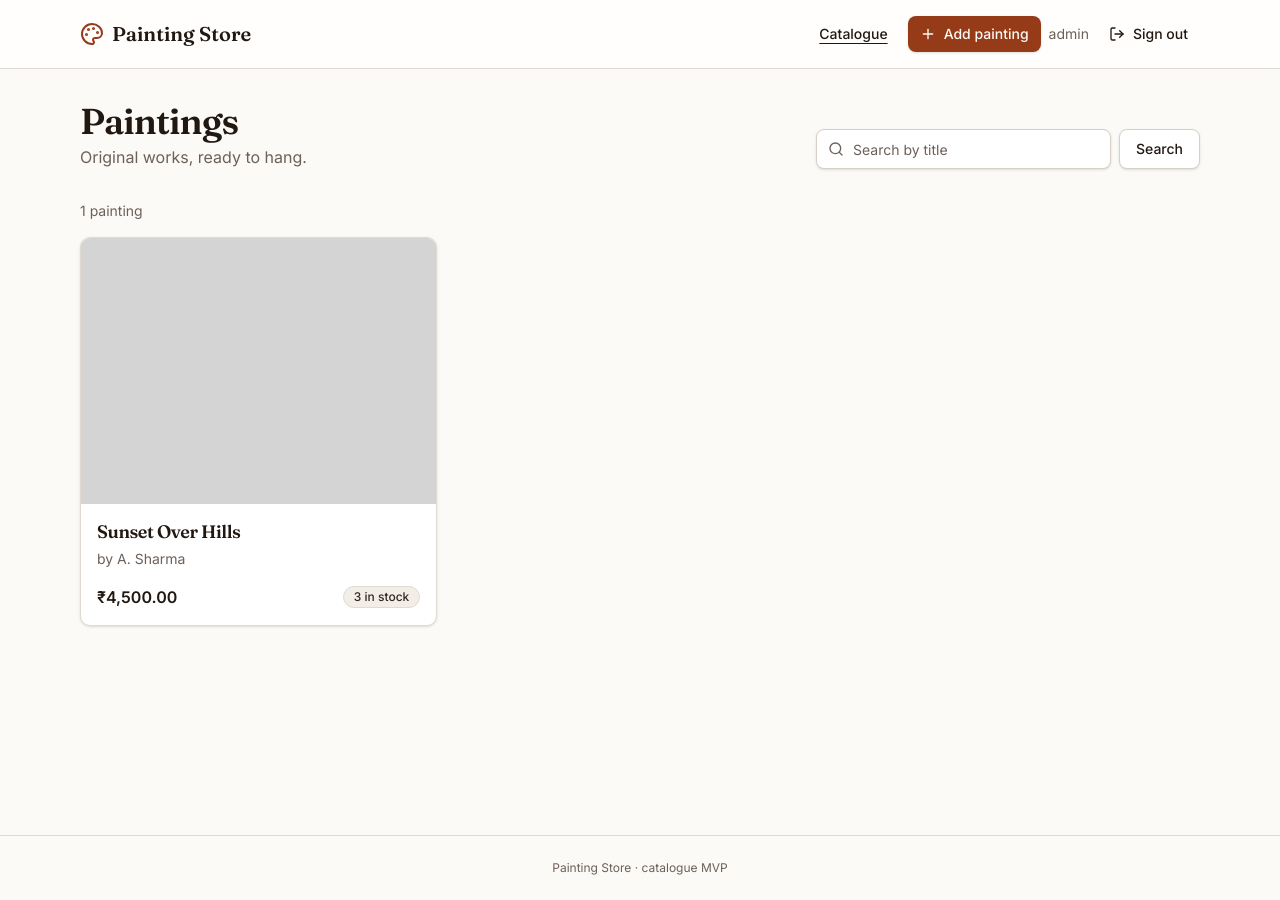
Test case: PaintingListPage › searches by title using the backend query param and reflects it in the URL
Expected: the link "Sunset Over Hills" is shown, [97,520,240,544]
Step 1. Type "moon" into the search field named "search paintings" → point(964, 149), box [816,129,1111,169]
Then press Enter
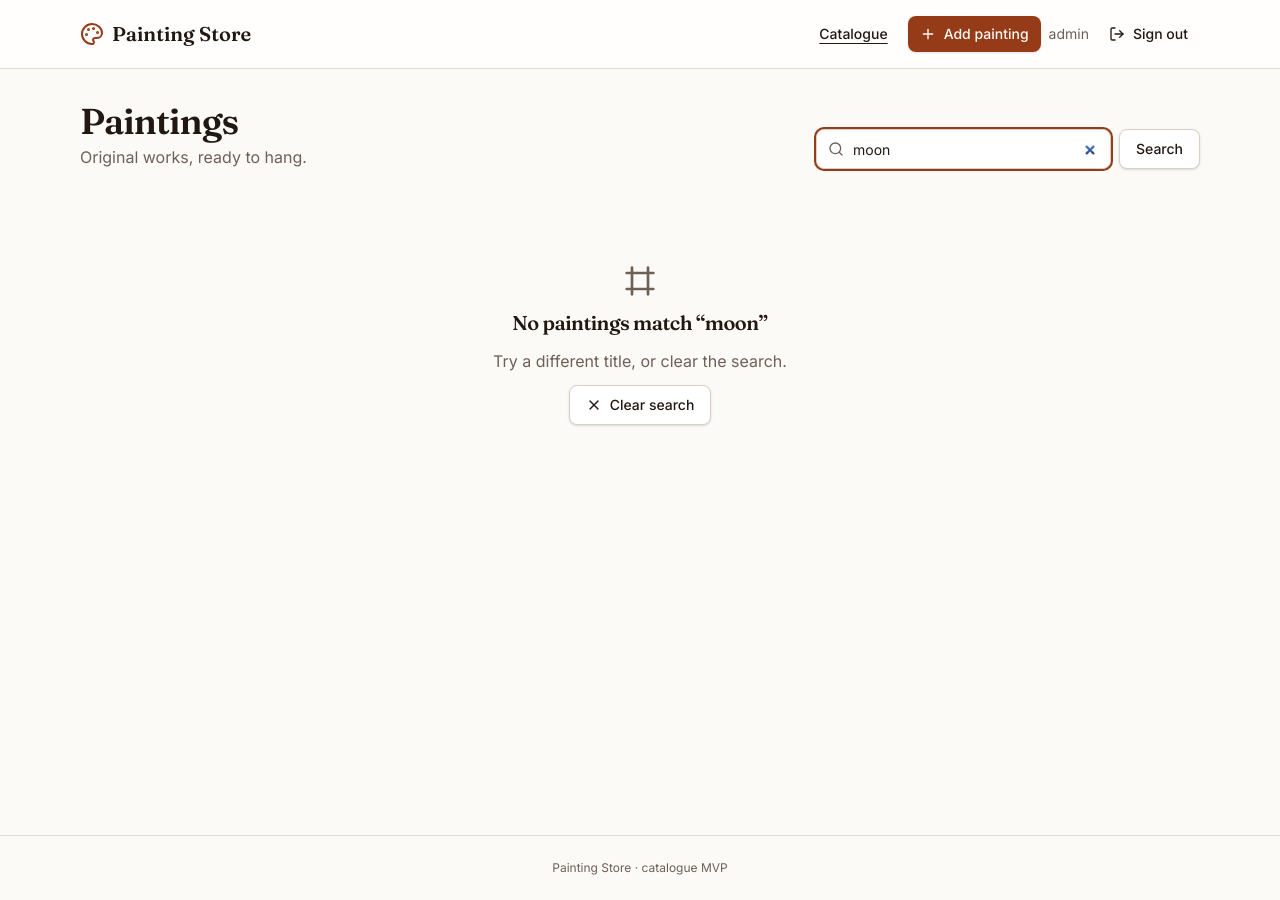
Expected: the heading "No paintings match “moon”" is shown, [512,309,768,337]
Step 2. Click the button "Clear search" → point(640, 405), box [569,385,711,425]
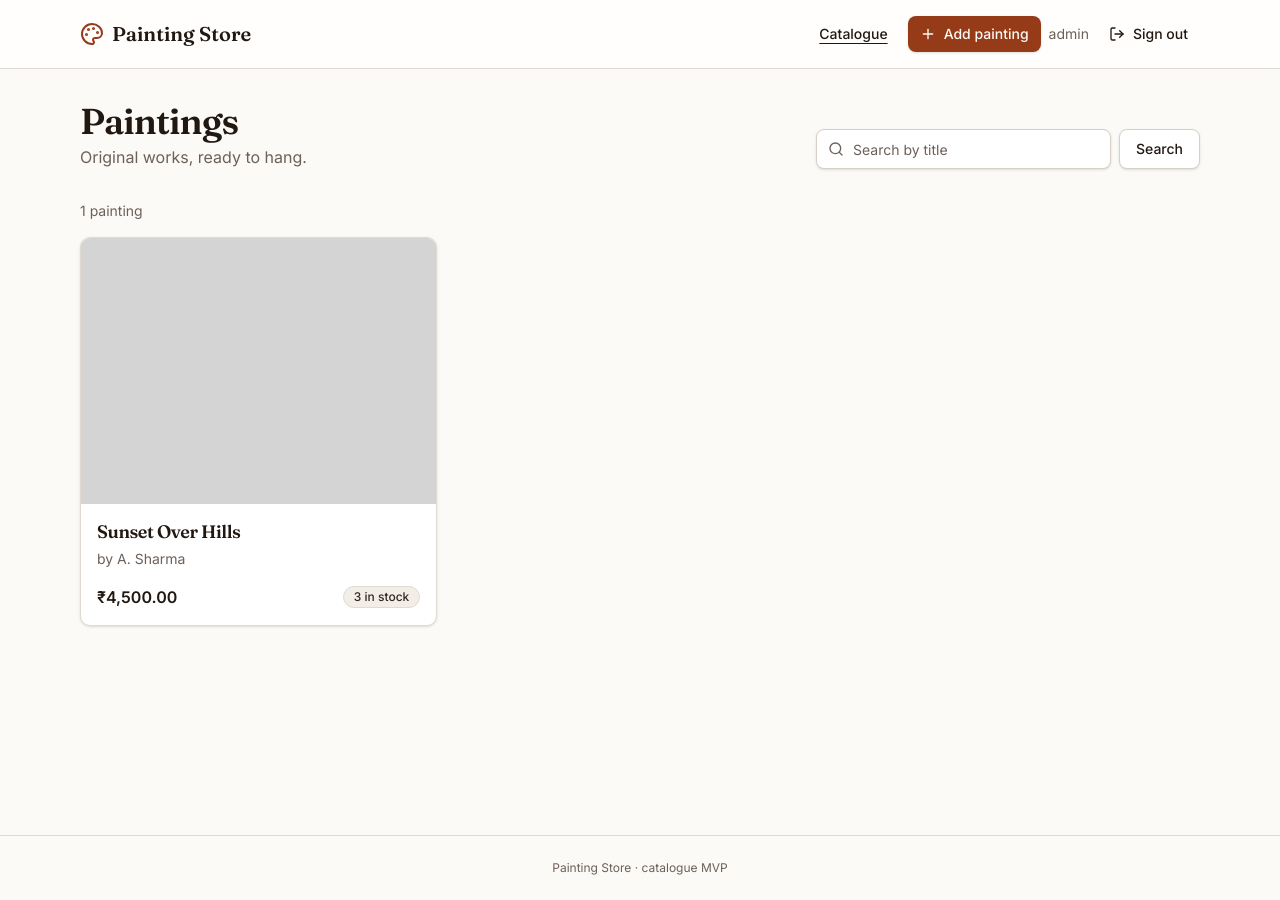
Expected: the link "Sunset Over Hills" is shown, [97,520,240,544]
